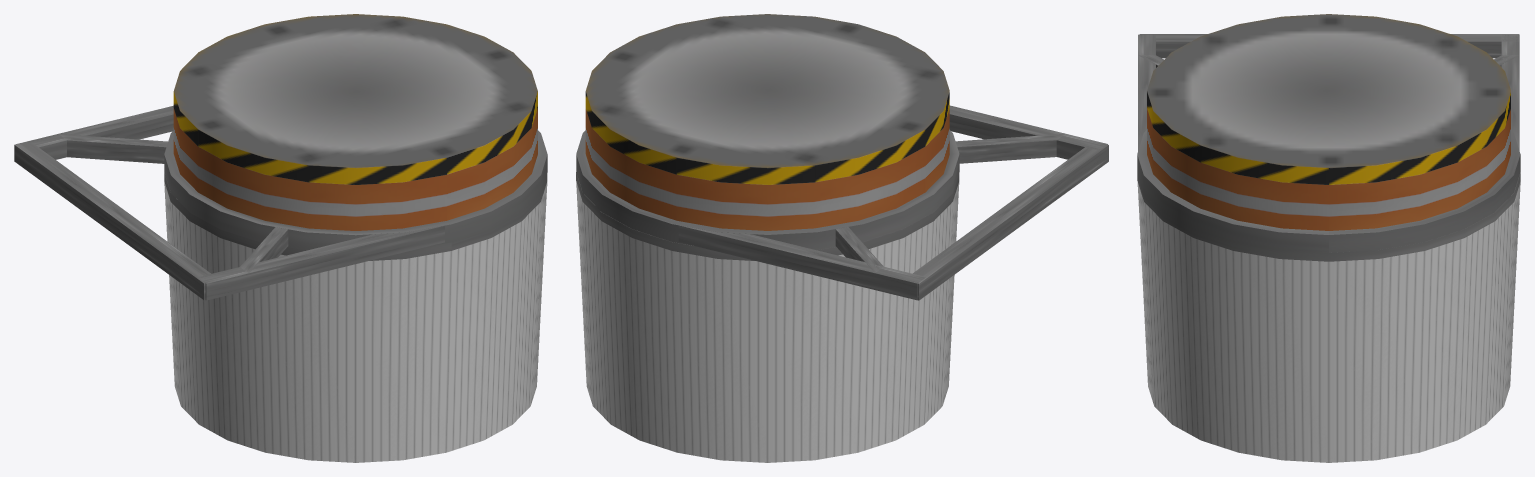
Rendered from AJ5ArcJet.FBX.
3 views of the same model, side by side, from view 1: azimuth 30°, elevation 25°; view 2: azimuth 150°, elevation 25°; view 3: azimuth 270°, elevation 25° (orthographic).
Visible parts, largest first — view 1: Shroud, Main Body, MountingBracketBand001, Box003, Box006, Box001, BarrelBand003, Box004, Box005; view 2: Shroud, Main Body, MountingBracketBand001, Box003, Box001, Box006, BarrelBand003, Box005, Box004; view 3: Shroud, Main Body, MountingBracketBand001, BarrelBand003, Box003, Box001, Box006.
Part boxes in pixels (x1=…): Shroud: x1=164, y1=182, x2=547, y2=462; Main Body: x1=173, y1=14, x2=537, y2=230; MountingBracketBand001: x1=164, y1=130, x2=547, y2=250; Box003: x1=14, y1=141, x2=210, y2=300; Box006: x1=198, y1=225, x2=444, y2=300; Box001: x1=16, y1=105, x2=173, y2=159; BarrelBand003: x1=164, y1=173, x2=547, y2=260; Box004: x1=59, y1=134, x2=167, y2=163; Box005: x1=240, y1=227, x2=288, y2=272; Shroud: x1=576, y1=182, x2=959, y2=462; Main Body: x1=585, y1=14, x2=949, y2=230; MountingBracketBand001: x1=576, y1=130, x2=959, y2=250; Box003: x1=904, y1=144, x2=1108, y2=300; Box001: x1=678, y1=225, x2=925, y2=300; Box006: x1=949, y1=105, x2=1107, y2=159; BarrelBand003: x1=576, y1=172, x2=959, y2=260; Box005: x1=955, y1=133, x2=1065, y2=163; Box004: x1=835, y1=227, x2=883, y2=272; Shroud: x1=1137, y1=182, x2=1520, y2=462; Main Body: x1=1147, y1=14, x2=1510, y2=230; MountingBracketBand001: x1=1137, y1=130, x2=1520, y2=252; BarrelBand003: x1=1137, y1=172, x2=1520, y2=261; Box003: x1=1139, y1=34, x2=1519, y2=58; Box001: x1=1501, y1=34, x2=1519, y2=150; Box006: x1=1138, y1=34, x2=1155, y2=150.
Size of what is drawn, in the model's own units: 0.8175 by 0.6584 by 0.5599.
